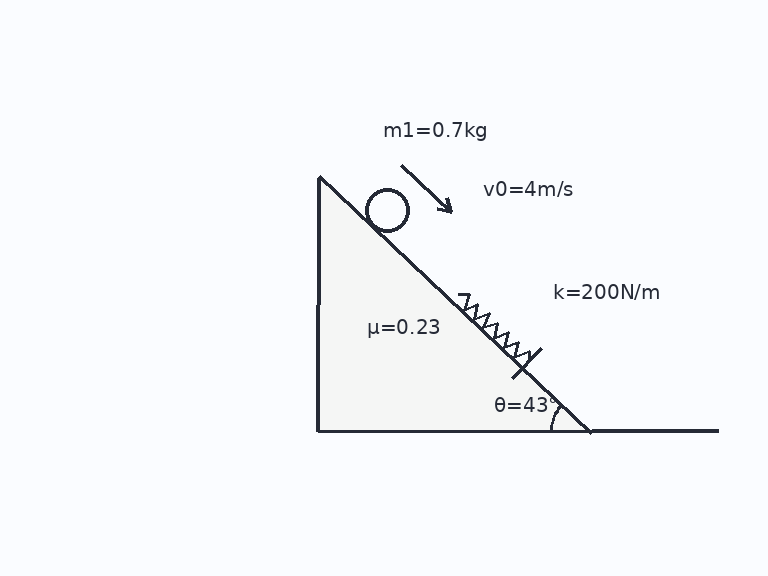ball: (363, 186, 411, 234)
ramp: (316, 175, 593, 433)
spring: (456, 292, 531, 363)
